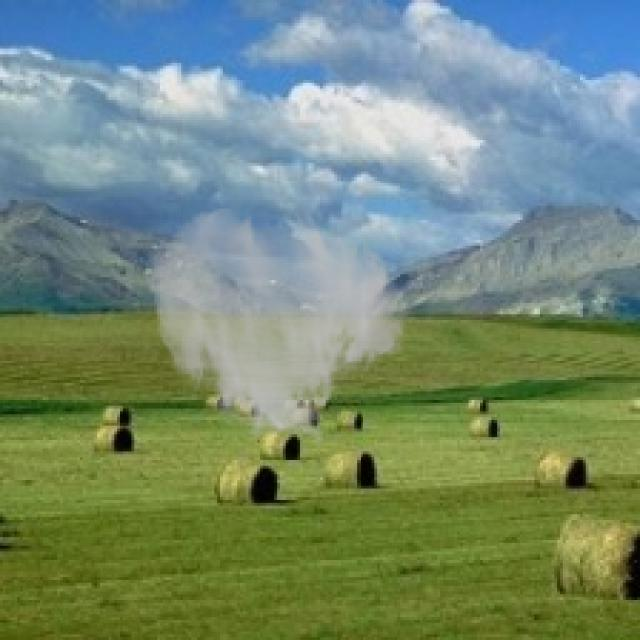smoke: (143, 206, 408, 448)
